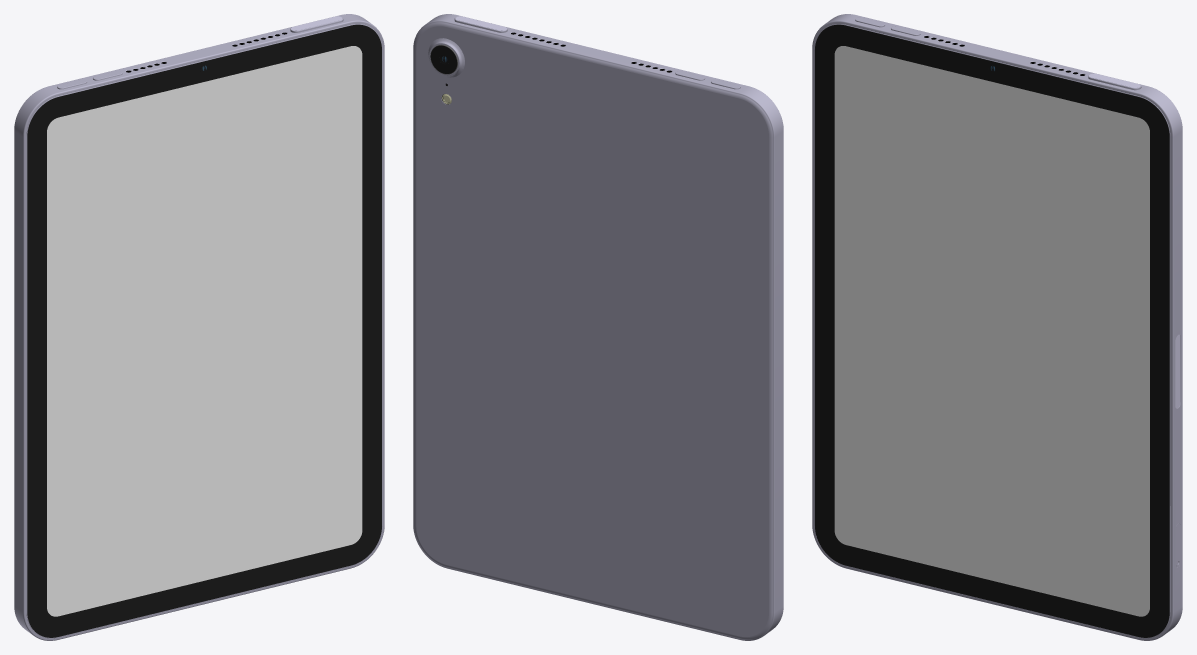
The model's file is ipad-mini.glb.
3 renders of one model, left to right at view 1: azimuth 30°, elevation 25°; view 2: azimuth 150°, elevation 25°; view 3: azimuth 330°, elevation 25°, orthographic.
Parts seen in each view (by area): view 1: screen, object 6, object 1; view 2: object 1, object 7; view 3: screen, object 6, object 1, object 2.
Boxes of the visible parts, x1,y1,x2,y2 form: screen: [47, 46, 362, 616]; object 6: [27, 24, 381, 637]; object 1: [14, 14, 384, 640]; object 1: [413, 14, 783, 640]; object 7: [430, 45, 457, 73]; screen: [834, 46, 1149, 616]; object 6: [815, 24, 1169, 637]; object 1: [812, 14, 1182, 640]; object 2: [1089, 73, 1180, 408].
Size of the model in its own units: 0.1348 by 0.1955 by 0.00881.
Materials: 12 (2 with a texture image).
